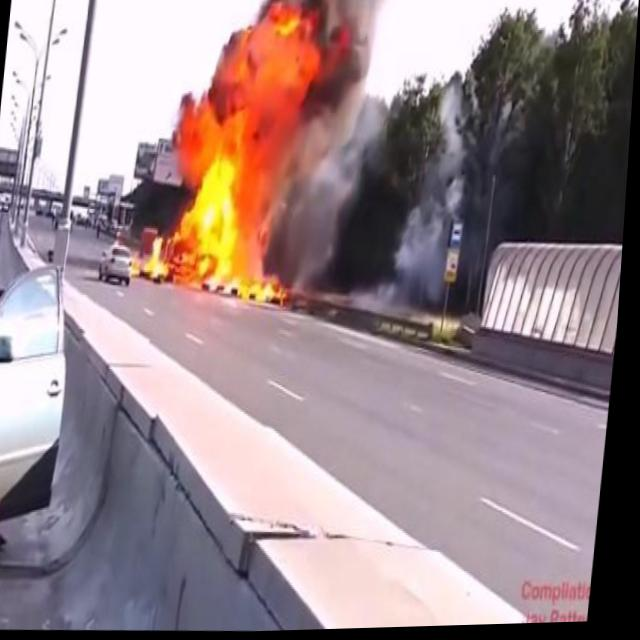fire: (141, 0, 358, 313)
